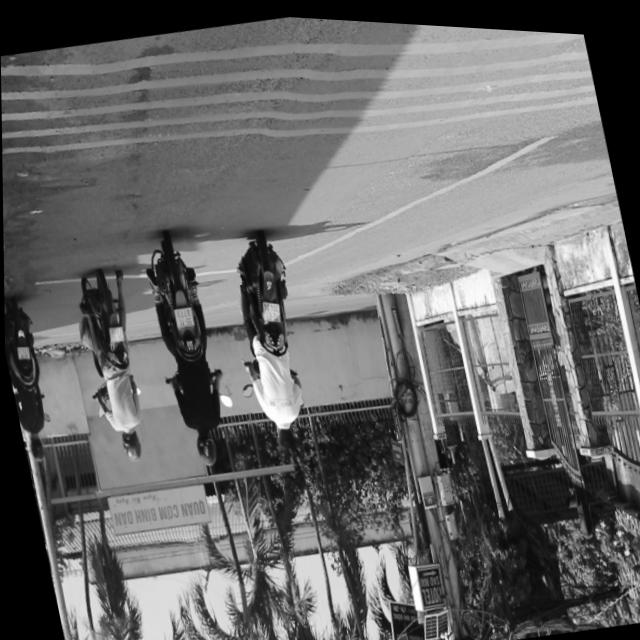helmet: (194, 428, 221, 467), (119, 429, 145, 463)
licenseplate: (137, 229, 240, 473), (222, 227, 326, 462), (68, 264, 161, 468)
motorcyclist: (274, 418, 300, 456)
nohelmet: (259, 296, 283, 322), (174, 305, 195, 329), (109, 326, 125, 343)
